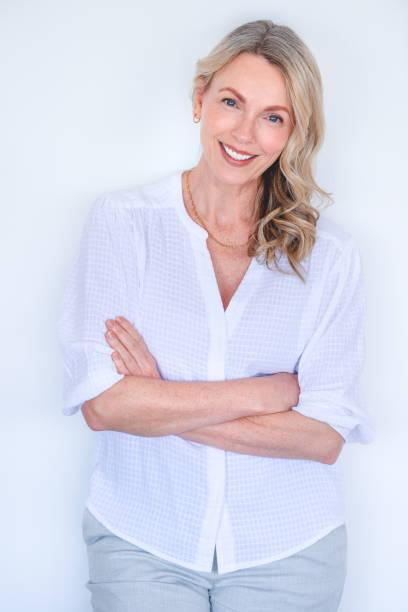Dry-Skin: (135, 378, 307, 457), (190, 182, 255, 228)
